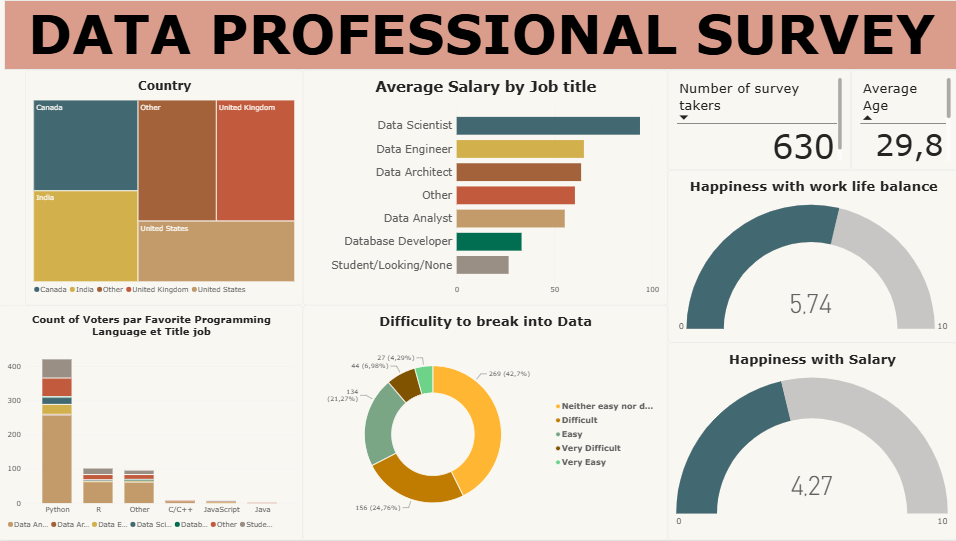

The dashboard page shown, as its layout file describes it:
{"tool":"powerbi","page":{"name":"Page 1","canvas":[1920,1080],"ordinal":0},"visuals":[{"type":"textbox","box":[10.3,0,1910.1,140],"z":0},{"type":"tableEx","fields":{"Values":["Power BI - Final Project.Unique ID"]},"box":[1337.9,140,366.4,199.7],"z":1000},{"type":"tableEx","fields":{"Values":["Avg(Power BI - Final Project.Q10 - Current Age)"]},"box":[1704.3,140,216.1,199.7],"z":2000},{"type":"barChart","title":"Average Salary by Job title","fields":{"Category":["Power BI - Final Project.Q1 - Which Title Best Fits your Current Role?.1"],"Series":["Power BI - Final Project.Q1 - Which Title Best Fits your Current Role?.1"],"Y":["Avg(Power BI - Final Project.Average salary)"]},"box":[608,140,730,470],"z":3000},{"type":"columnChart","fields":{"Category":["Power BI - Final Project.Q5 - Favorite Programming Language.1"],"Series":["Power BI - Final Project.Q1 - Which Title Best Fits your Current Role?.1"],"Y":["CountNonNull(Power BI - Final Project.Unique ID)"]},"box":[0,610,608,470],"z":4000},{"type":"treemap","title":"Country","fields":{"Group":["Power BI - Final Project.Q11 - Which Country do you live in?.1"],"Values":["Count(Power BI - Final Project.Q11 - Which Country do you live in?.1)"]},"box":[52,140,556,470],"z":5000},{"type":"gauge","title":"Happiness with work life balance","fields":{"MaxValue":["Max(Power BI - Final Project.Q6 - How Happy are you in your Current Position with the following? (Work/Life Balance))1"],"MinValue":["Min(Power BI - Final Project.Q6 - How Happy are you in your Current Position with the following? (Work/Life Balance))"],"Y":["Avg(Power BI - Final Project.Q6 - How Happy are you in your Current Position with the following? (Work/Life Balance))"]},"box":[1337.5,340,582.5,345],"z":6000},{"type":"gauge","title":"Happiness with Salary","fields":{"MaxValue":["Max(Power BI - Final Project.Q6 - How Happy are you in your Current Position with the following? (Salary))"],"MinValue":["Min(Power BI - Final Project.Q6 - How Happy are you in your Current Position with the following? (Salary))"],"Y":["Avg(Power BI - Final Project.Q6 - How Happy are you in your Current Position with the following? (Salary))"]},"box":[1337.5,685,577.5,395],"z":7000},{"type":"donutChart","title":"Difficulity to break into Data","fields":{"Category":["Power BI - Final Project.Q7 - How difficult was it for you to break into Data?"],"Y":["CountNonNull(Power BI - Final Project.Q7 - How difficult was it for you to break into Data?)"]},"box":[608,610,730,470],"z":7001}]}

Visuals, with their boxes in screenshot pixels (x1, y1, x2, y2), scaled from the page's 1920x1080 canvas onto the 956x541 screenshot:
textbox: bbox=(5, 0, 955, 70)
tableEx - Power BI - Final Project.Unique ID: bbox=(666, 70, 849, 170)
tableEx - Avg(Power BI - Final Project.Q10 - Current Age): bbox=(849, 70, 955, 170)
"Average Salary by Job title" barChart: bbox=(303, 70, 666, 306)
columnChart - Power BI - Final Project.Q5 - Favorite Programming Language.1 x Power BI - Final Project.Q1 - Which Title Best Fits your Current Role?.1: bbox=(0, 306, 303, 540)
"Country" treemap: bbox=(26, 70, 303, 306)
"Happiness with work life balance" gauge: bbox=(666, 170, 955, 343)
"Happiness with Salary" gauge: bbox=(666, 343, 954, 540)
"Difficulity to break into Data" donutChart: bbox=(303, 306, 666, 540)
